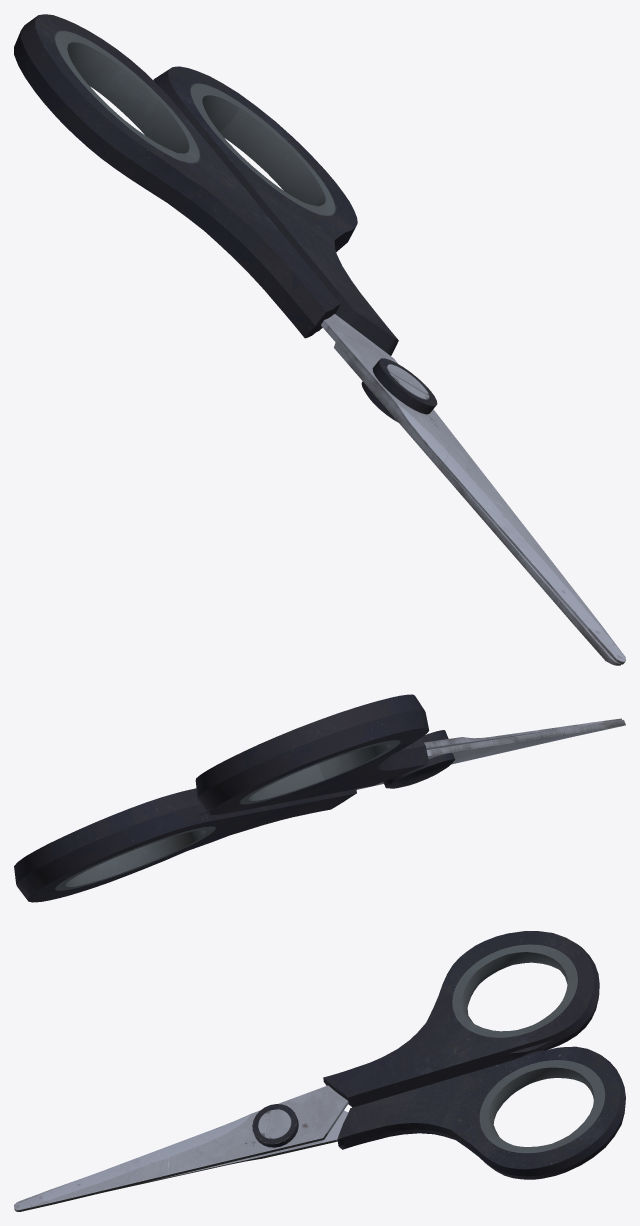
Rendered from scissors_0.glb.
3 views of the same model, one above another, from view 1: azimuth 30°, elevation 25°; view 2: azimuth 150°, elevation 25°; view 3: azimuth 270°, elevation 25° (orthographic). The views are drawn at different scales.
Visible parts, largest first — view 1: c48ef19cfc444478af5cb9e1fff3f9dd; view 2: c48ef19cfc444478af5cb9e1fff3f9dd; view 3: c48ef19cfc444478af5cb9e1fff3f9dd.
Boxes of the visible parts, x1,y1,x2,y2 form: c48ef19cfc444478af5cb9e1fff3f9dd: (14, 14, 625, 665); c48ef19cfc444478af5cb9e1fff3f9dd: (14, 694, 625, 902); c48ef19cfc444478af5cb9e1fff3f9dd: (14, 931, 625, 1211).
Size of the model in its own units: 0.383 by 0.4056 by 0.9795.
Materials: 1 (1 with a texture image).
